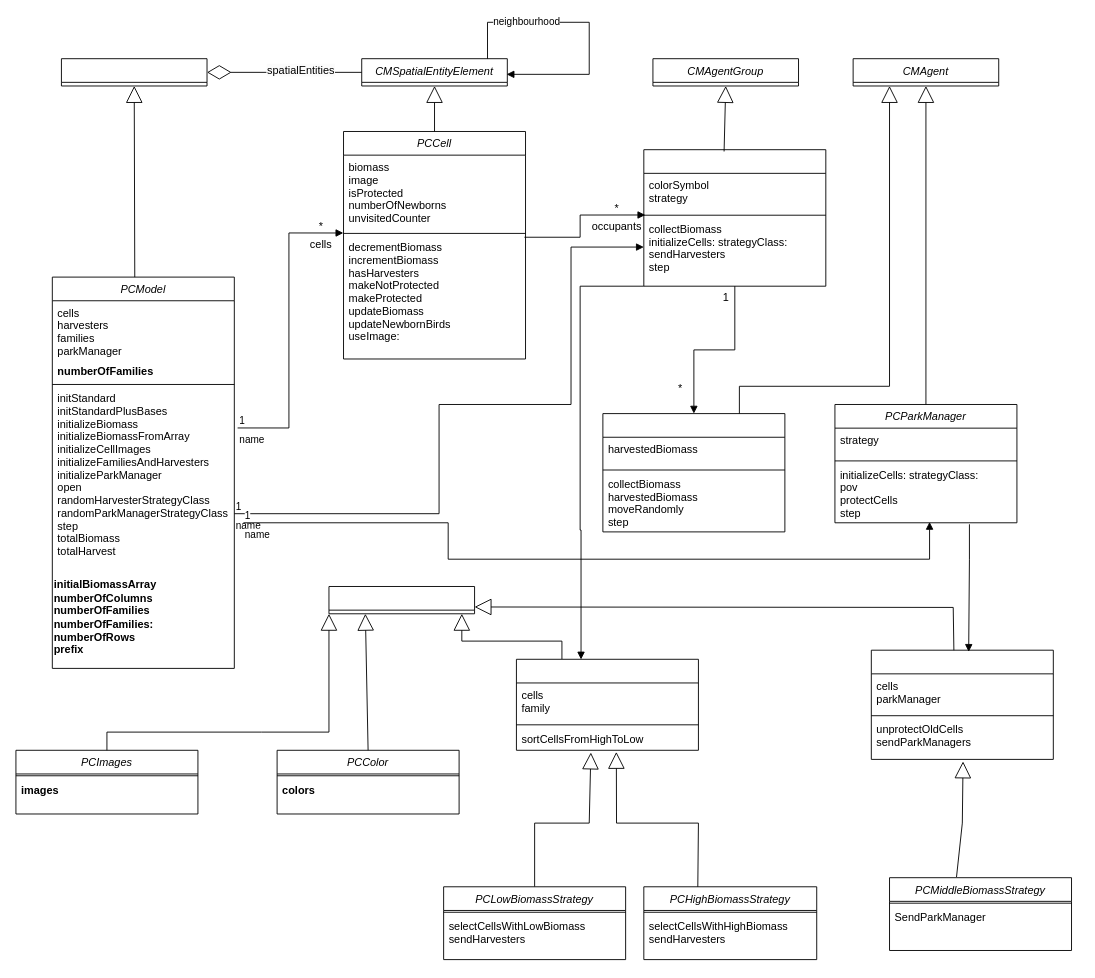
Some shapes in this 1095 by 978 pixel diagram are drawn without their labels. Each missing label, with the box of its shape:
CMAbstractModel: (61, 58, 207, 86)
Object: (328, 586, 475, 614)
PCFamily: (643, 149, 826, 286)
PCHarvester: (602, 413, 785, 532)
PCHarvesterStrategy: (516, 658, 698, 750)
PCParkManagerStrategy: (870, 649, 1053, 759)
